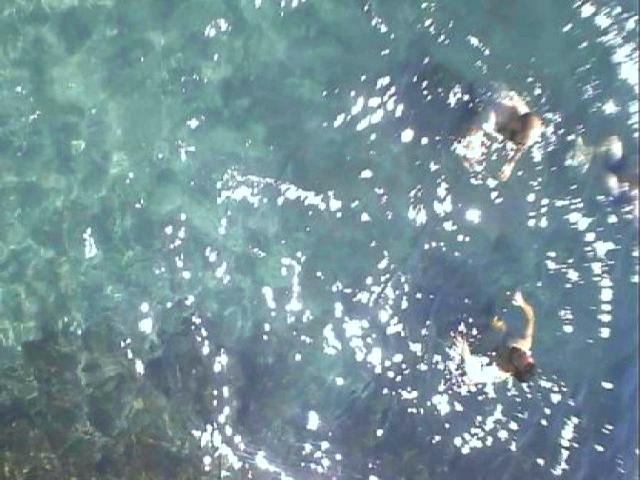swimming: (439, 81, 561, 184), (444, 291, 550, 396)
